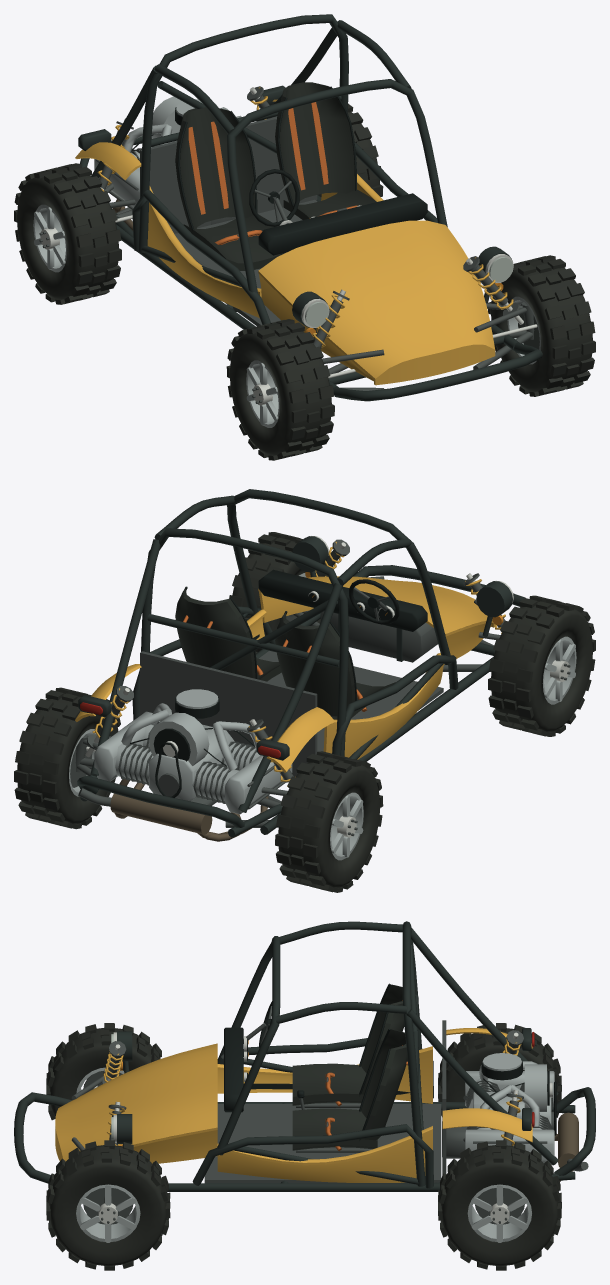
File: buggy-candidate.glb
The picture shows the model from 3 angles, top to bottom: view 1: azimuth 30°, elevation 25°; view 2: azimuth 150°, elevation 25°; view 3: azimuth 270°, elevation 25°; orthographic projection. The views are drawn at different scales.
Visible parts, largest first — view 1: panel_hoodRavine, Interior Ravine bucket back 1, Tire_Ravine_FL, Tire_Ravine_RL, Interior Ravine bucket back -1, Tire_Ravine_FR, Tire_Ravine_Tread_FL, Tire_Ravine_Tread_RL, panel_CageFrontRavine, Tire_Ravine_Tread_FR, Interior Ravine dashboard, Structure Ravine firewall (+24 smaller); view 2: Structure Ravine firewall, Tire_Ravine_RL, Tire_Ravine_FL, Tire_Ravine_Tread_RL, Tire_Ravine_Tread_FL, Tire_Ravine_Tread_RR, Tire_Ravine_RR, Interior Ravine bucket back 1, panel_CageFrontRavine, panel_CageMainRavine, Interior Ravine bucket back -1, Interior Ravine dashboard (+37 smaller); view 3: panel_hoodRavine, Tire_Ravine_RR, Tire_Ravine_FR, Structure Ravine floor, panel_SidePodRavineR, Tire_Ravine_Tread_FR, Tire_Ravine_Tread_RR, panel_CageFrontRavine, Interior Ravine bucket cushion -1, Interior Ravine bucket back 1, Tire_Ravine_FL, panel_CageSideRavineR (+34 smaller).
Part boxes in pixels (x1=…): panel_hoodRavine: x1=258, y1=220, x2=495, y2=380; Interior Ravine bucket back 1: x1=275, y1=82, x2=354, y2=204; Tire_Ravine_FL: x1=229, y1=325, x2=331, y2=455; Tire_Ravine_RL: x1=17, y1=170, x2=118, y2=299; Interior Ravine bucket back -1: x1=175, y1=107, x2=254, y2=230; Tire_Ravine_FR: x1=490, y1=262, x2=592, y2=391; Tire_Ravine_Tread_FL: x1=226, y1=319, x2=334, y2=460; Tire_Ravine_Tread_RL: x1=14, y1=163, x2=121, y2=304; panel_CageFrontRavine: x1=227, y1=79, x2=447, y2=297; Tire_Ravine_Tread_FR: x1=488, y1=255, x2=595, y2=396; Interior Ravine dashboard: x1=258, y1=193, x2=427, y2=255; Structure Ravine firewall: x1=140, y1=116, x2=317, y2=233; Structure Ravine firewall: x1=140, y1=651, x2=317, y2=776; Tire_Ravine_RL: x1=278, y1=757, x2=380, y2=887; Tire_Ravine_FL: x1=491, y1=601, x2=592, y2=731; Tire_Ravine_Tread_RL: x1=275, y1=751, x2=383, y2=892; Tire_Ravine_Tread_FL: x1=488, y1=595, x2=595, y2=736; Tire_Ravine_Tread_RR: x1=14, y1=687, x2=120, y2=829; Tire_Ravine_RR: x1=17, y1=693, x2=118, y2=823; Interior Ravine bucket back 1: x1=175, y1=588, x2=255, y2=678; panel_CageFrontRavine: x1=227, y1=489, x2=451, y2=664; panel_CageMainRavine: x1=141, y1=528, x2=348, y2=756; Interior Ravine bucket back -1: x1=275, y1=612, x2=355, y2=716; Interior Ravine dashboard: x1=258, y1=569, x2=427, y2=631; panel_hoodRavine: x1=55, y1=1043, x2=217, y2=1161; Tire_Ravine_RR: x1=441, y1=1145, x2=557, y2=1266; Tire_Ravine_FR: x1=49, y1=1145, x2=166, y2=1266; Structure Ravine floor: x1=204, y1=1104, x2=441, y2=1183; panel_SidePodRavineR: x1=217, y1=1131, x2=432, y2=1182; Tire_Ravine_Tread_FR: x1=46, y1=1140, x2=170, y2=1270; Tire_Ravine_Tread_RR: x1=438, y1=1140, x2=561, y2=1270; panel_CageFrontRavine: x1=217, y1=936, x2=280, y2=1155; Interior Ravine bucket cushion -1: x1=292, y1=1063, x2=366, y2=1105; Interior Ravine bucket back 1: x1=361, y1=1029, x2=407, y2=1140; Tire_Ravine_FL: x1=49, y1=1028, x2=160, y2=1116; panel_CageSideRavineR: x1=192, y1=1124, x2=433, y2=1188.
Size of the model in its own units: 2.02 by 1.7 by 3.57.
